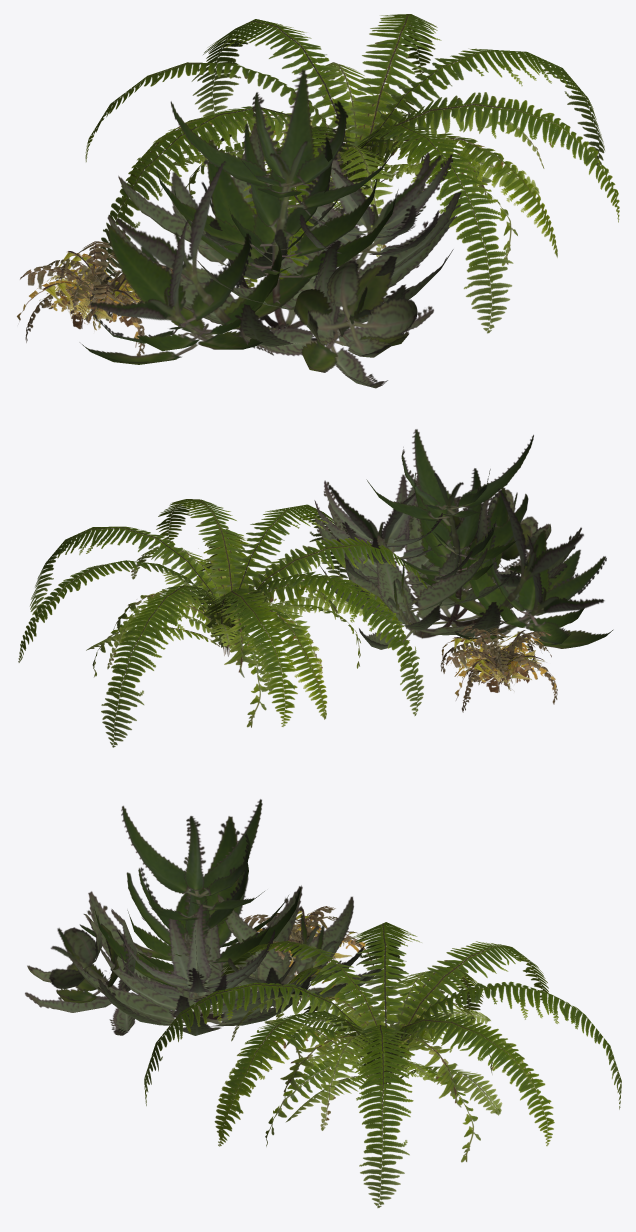
File: all_plants.glb
The picture shows the model from 3 angles, top to bottom: view 1: azimuth 30°, elevation 25°; view 2: azimuth 150°, elevation 25°; view 3: azimuth 270°, elevation 25°; orthographic projection. The views are drawn at different scales.
Parts seen in each view (by area): view 1: Leaf 010_Plant 1_0, Leaf 1_Plant 1_0, Leaf 014_Plant 1_0, Leaf 011_Plant 1_0, Leaf 013_Plant 1_0, Leaf 009_Plant 1_0, Leaf 015_Plant 1_0, Leaf023_Material #25_0, Leaf12_Material #25_0, Leaf 012_Plant 1_0, Vorlage005_Material #25_0, Leaf021_Material #25_0 (+55 smaller); view 2: Leaf 1_Plant 1_0, Leaf 012_Plant 1_0, Leaf 011_Plant 1_0, Leaf 009_Plant 1_0, Leaf 014_Plant 1_0, Leaf 2_Plant 1_0, Leaf 010_Plant 1_0, Leaf 6_Plant 1_0, Leaf 013_Plant 1_0, Leaf023_Material #25_0, Leaf056_Material #25_0, Vorlage005_Material #25_0 (+42 smaller); view 3: Leaf 009_Plant 1_0, Leaf 013_Plant 1_0, Leaf 012_Plant 1_0, Leaf 014_Plant 1_0, Leaf 010_Plant 1_0, Leaf 011_Plant 1_0, Leaf 1_Plant 1_0, Leaf 2_Plant 1_0, Leaf057_Material #25_0, Leaf 015_Plant 1_0, Leaf 5_Plant 1_0, Leaf058_Material #25_0 (+35 smaller).
Part boxes in pixels (x1,y1,x2,y2): Leaf 010_Plant 1_0: (346,125,513,333); Leaf 1_Plant 1_0: (191,19,354,161); Leaf 014_Plant 1_0: (355,92,619,222); Leaf 011_Plant 1_0: (100,106,348,278); Leaf 013_Plant 1_0: (350,14,441,181); Leaf 009_Plant 1_0: (359,48,604,165); Leaf 015_Plant 1_0: (360,133,557,257); Leaf023_Material #25_0: (116,161,240,330); Leaf12_Material #25_0: (107,225,189,324); Leaf 012_Plant 1_0: (85,62,341,162); Vorlage005_Material #25_0: (89,219,213,339); Leaf021_Material #25_0: (270,69,315,190); Leaf 1_Plant 1_0: (101,585,228,747); Leaf 012_Plant 1_0: (205,588,297,726); Leaf 011_Plant 1_0: (225,571,424,715); Leaf 009_Plant 1_0: (29,526,224,655); Leaf 014_Plant 1_0: (156,499,246,607); Leaf 2_Plant 1_0: (228,537,427,649); Leaf 010_Plant 1_0: (225,504,347,654); Leaf 6_Plant 1_0: (228,603,327,719); Leaf 013_Plant 1_0: (18,560,211,662); Leaf023_Material #25_0: (457,488,583,625); Leaf056_Material #25_0: (412,429,456,525); Vorlage005_Material #25_0: (452,534,604,634); Leaf 009_Plant 1_0: (343,1025,418,1207); Leaf 013_Plant 1_0: (376,1012,554,1146); Leaf 012_Plant 1_0: (386,941,548,1083); Leaf 014_Plant 1_0: (217,1011,376,1146); Leaf 010_Plant 1_0: (144,982,376,1105); Leaf 011_Plant 1_0: (348,922,421,1091); Leaf 1_Plant 1_0: (385,981,621,1109); Leaf 2_Plant 1_0: (216,941,385,1039); Leaf057_Material #25_0: (121,805,199,897); Leaf 015_Plant 1_0: (214,1027,379,1138); Leaf 5_Plant 1_0: (320,1035,379,1130); Leaf058_Material #25_0: (200,799,262,897).
Bounding box in the file's own units: 135 × 58.22 × 133.
Materials: 2 (2 with a texture image).
